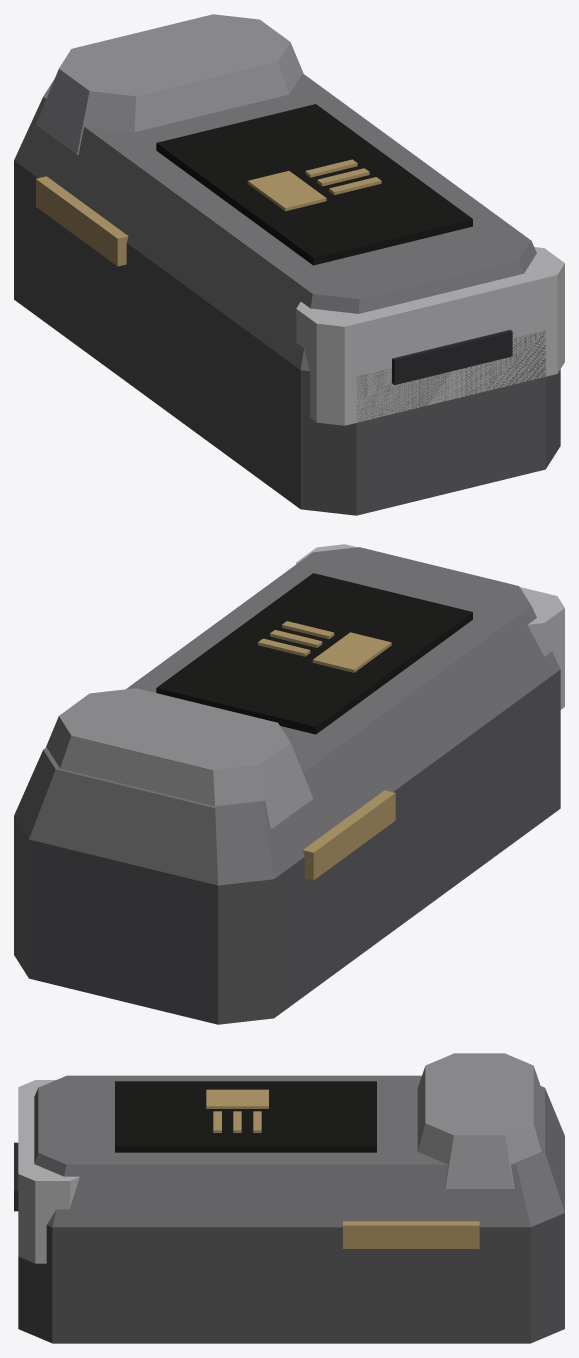
The model's file is cqf_casket.obj.
The picture shows the model from 3 angles, top to bottom: view 1: azimuth 30°, elevation 25°; view 2: azimuth 150°, elevation 25°; view 3: azimuth 270°, elevation 25°; orthographic projection. The views are drawn at different scales.
Visible parts, largest first — view 1: ship_casket_b8_0, ship_casket_b8_5, ship_casket_b8_1, ship_casket_b8_7, ship_casket_b8_6, ship_casket_b8_3, ship_casket_b8_2, ship_casket_b8_8; view 2: ship_casket_b8_0, ship_casket_b8_5, ship_casket_b8_7, ship_casket_b8_6, ship_casket_b8_3, ship_casket_b8_1, ship_casket_b8_8; view 3: ship_casket_b8_0, ship_casket_b8_5, ship_casket_b8_7, ship_casket_b8_6, ship_casket_b8_1, ship_casket_b8_4, ship_casket_b8_8.
Boxes of the visible parts, <box> form: ship_casket_b8_0: <box>14,160,560,515</box>; ship_casket_b8_5: <box>14,73,536,371</box>; ship_casket_b8_1: <box>296,247,564,425</box>; ship_casket_b8_7: <box>156,104,472,265</box>; ship_casket_b8_6: <box>36,14,303,154</box>; ship_casket_b8_3: <box>36,176,128,266</box>; ship_casket_b8_2: <box>392,330,512,385</box>; ship_casket_b8_8: <box>247,171,326,211</box>; ship_casket_b8_0: <box>14,670,560,1024</box>; ship_casket_b8_5: <box>14,547,560,885</box>; ship_casket_b8_7: <box>156,573,472,734</box>; ship_casket_b8_6: <box>46,688,313,828</box>; ship_casket_b8_3: <box>303,790,395,880</box>; ship_casket_b8_1: <box>296,544,564,709</box>; ship_casket_b8_8: <box>312,632,391,672</box>; ship_casket_b8_0: <box>18,1213,564,1343</box>; ship_casket_b8_5: <box>34,1075,564,1227</box>; ship_casket_b8_7: <box>115,1081,376,1152</box>; ship_casket_b8_6: <box>417,1053,541,1188</box>; ship_casket_b8_1: <box>18,1080,79,1263</box>; ship_casket_b8_4: <box>343,1221,479,1248</box>; ship_casket_b8_8: <box>206,1089,268,1108</box>.
Bounding box in the file's own units: 0.94 × 0.76 × 1.94.
